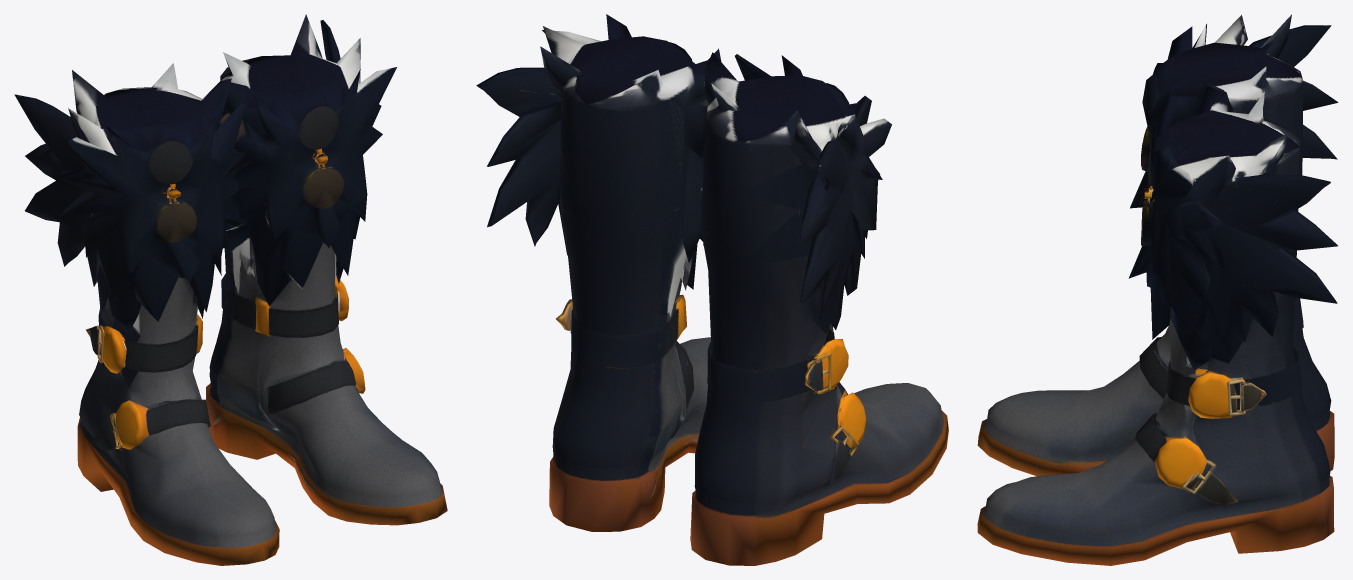
File: magpies-hoard-boots_refine.glb
3 renders of one model, left to right at view 1: azimuth 30°, elevation 25°; view 2: azimuth 150°, elevation 25°; view 3: azimuth 270°, elevation 25°, orthographic. The views are drawn at different scales.
Size of the model in its own units: 0.7925 by 0.9521 by 0.7344.
1 material, 1 textured.
